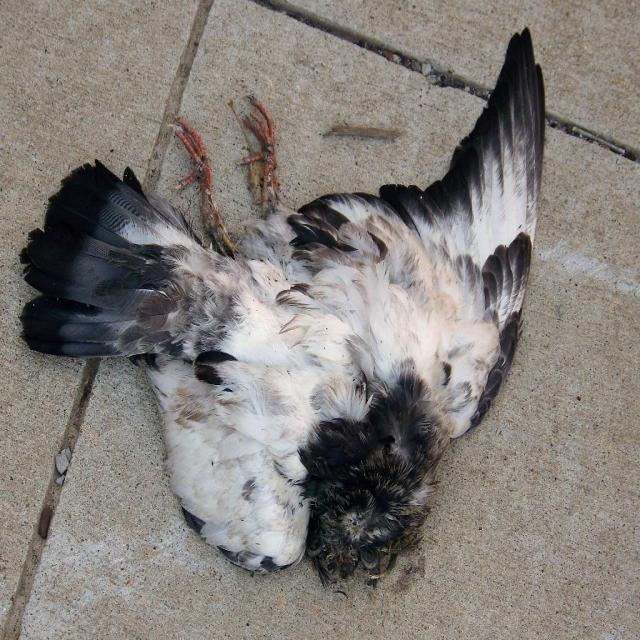Chicken: (0, 16, 542, 606)
